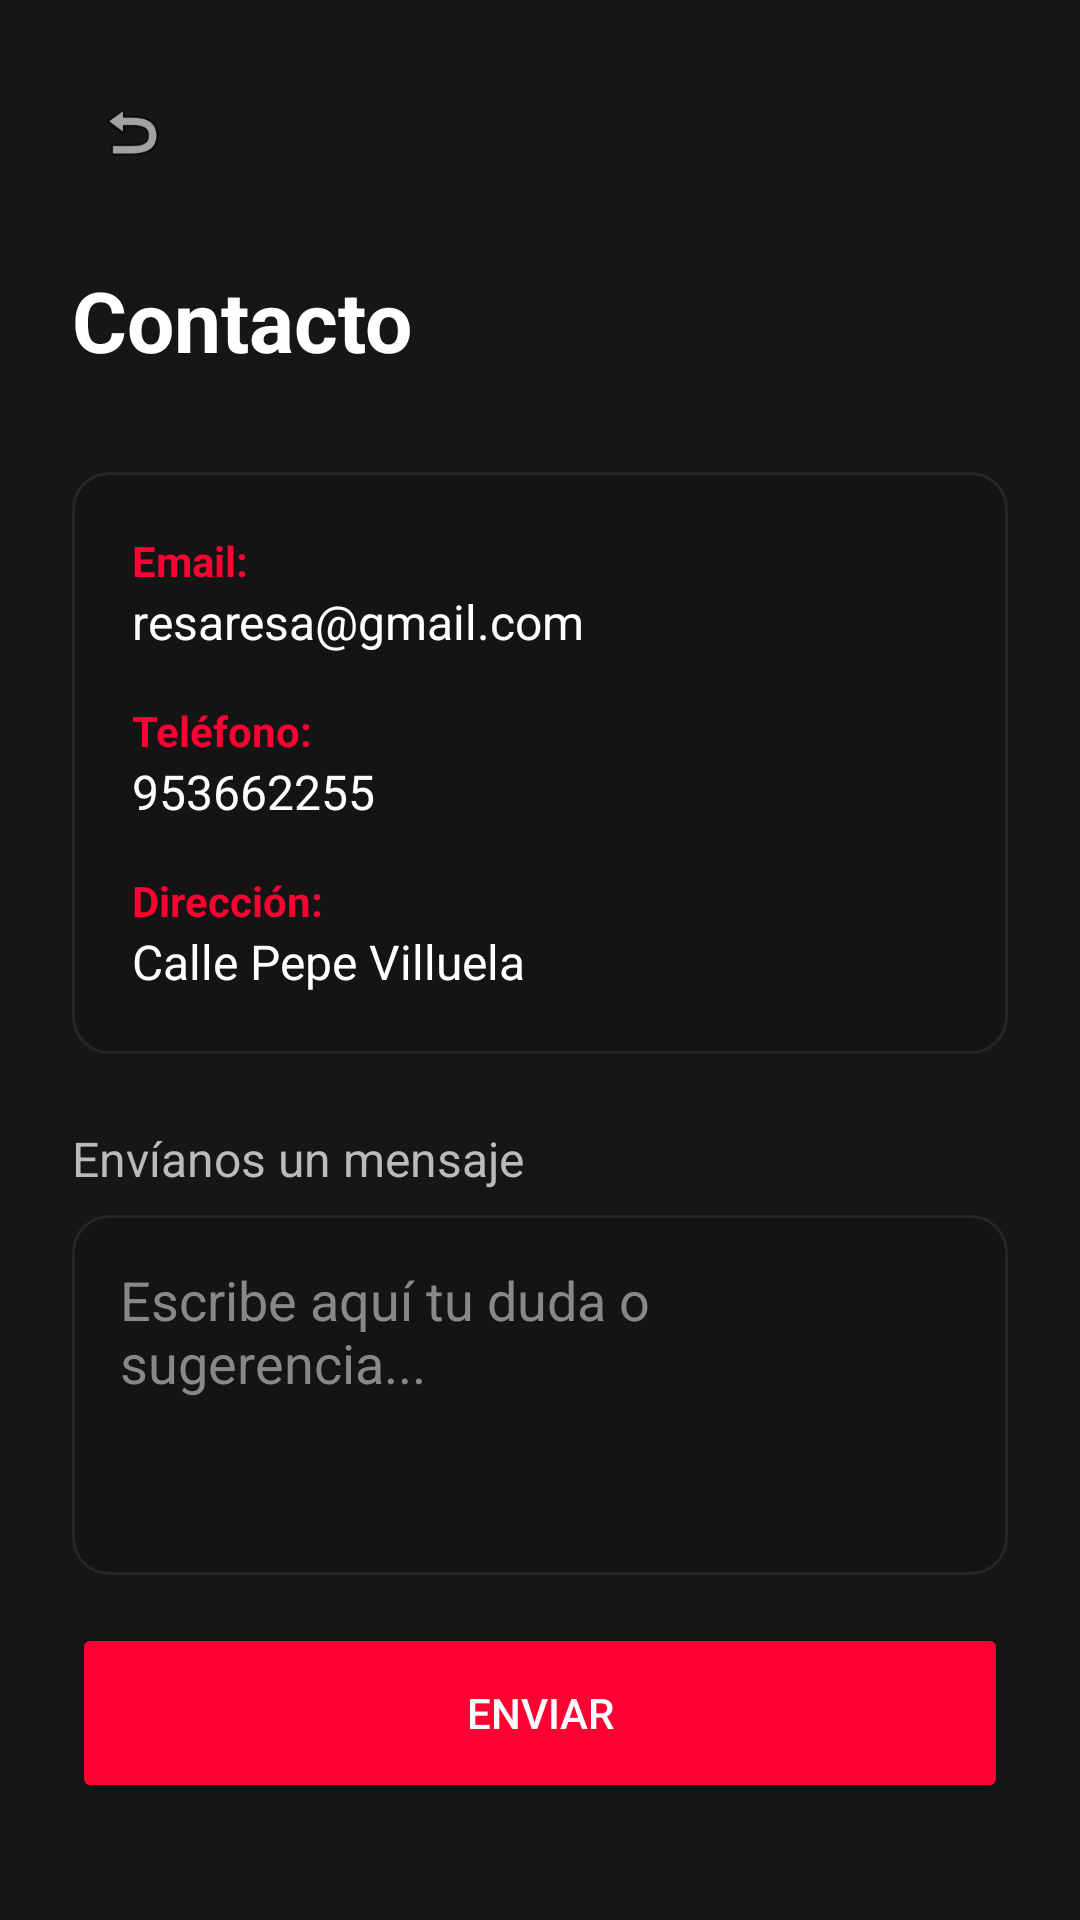

Point at icon controls on the screen. Image size 1080x1920, points as point (x, y).
revert: point (133, 132)
